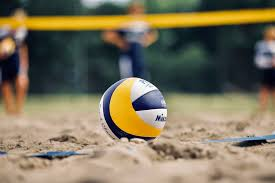ball: (98, 77, 167, 142)
